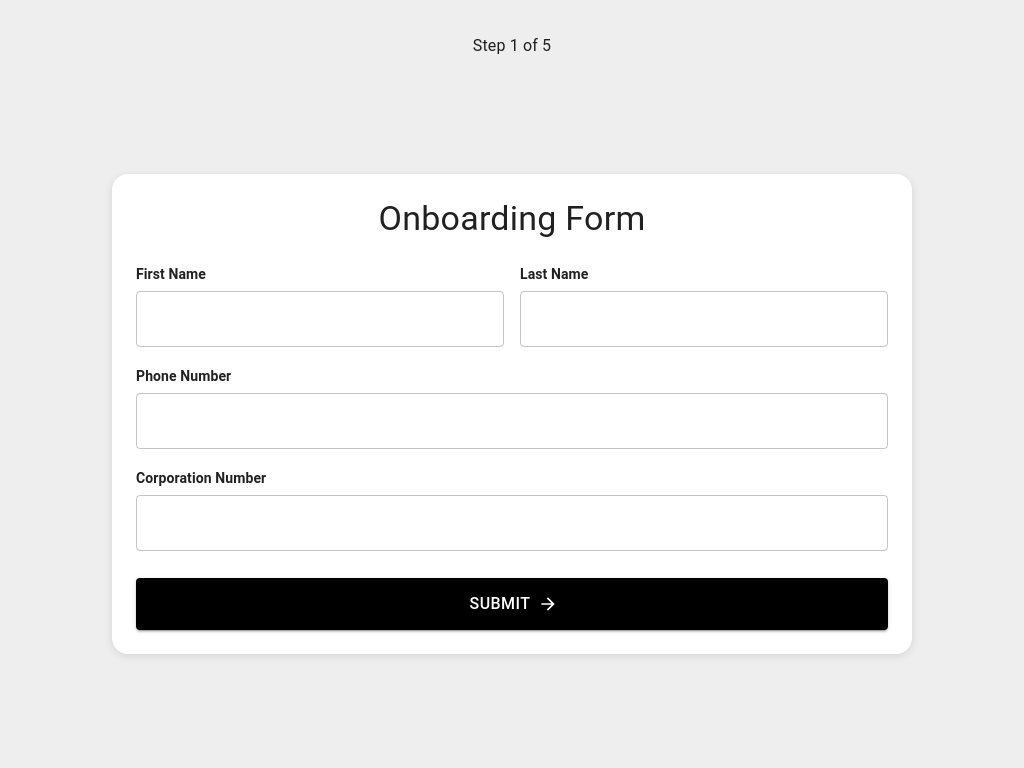
Test: OnboardingForm › displays error message on failed submission
This screenshot has width=1024, height=768.
In the element named "firstName": {"x": 320, "y": 319} [136, 291, 504, 347], type "Hello"
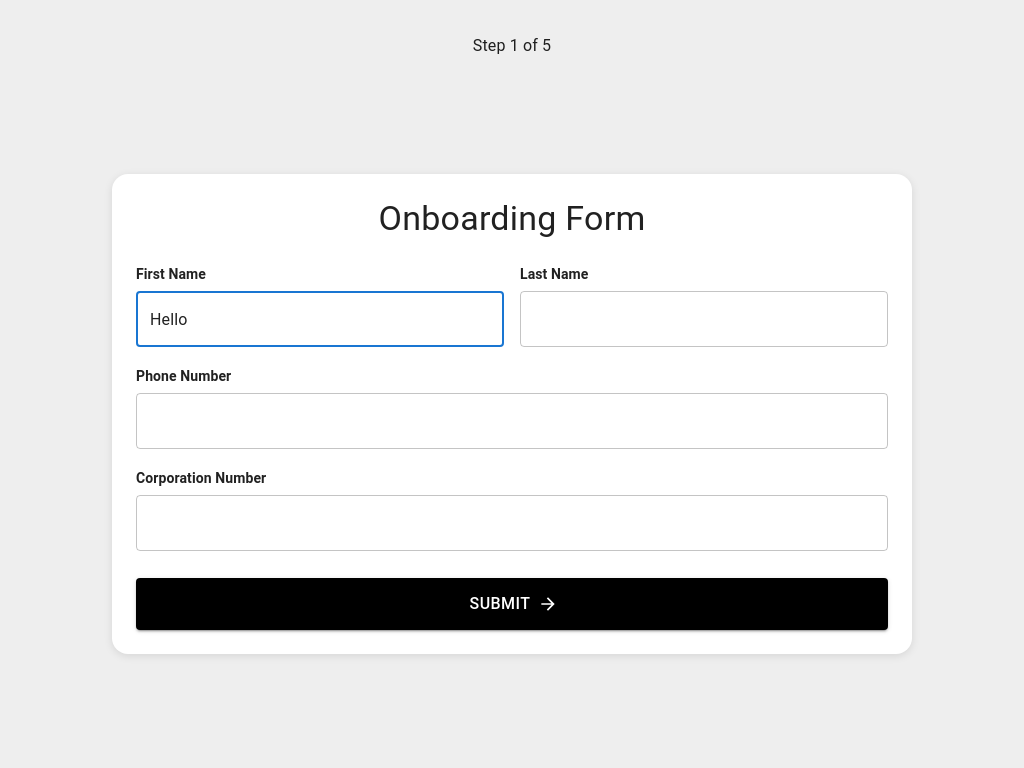
In the element named "lastName": {"x": 704, "y": 319} [520, 291, 888, 347], type "World"
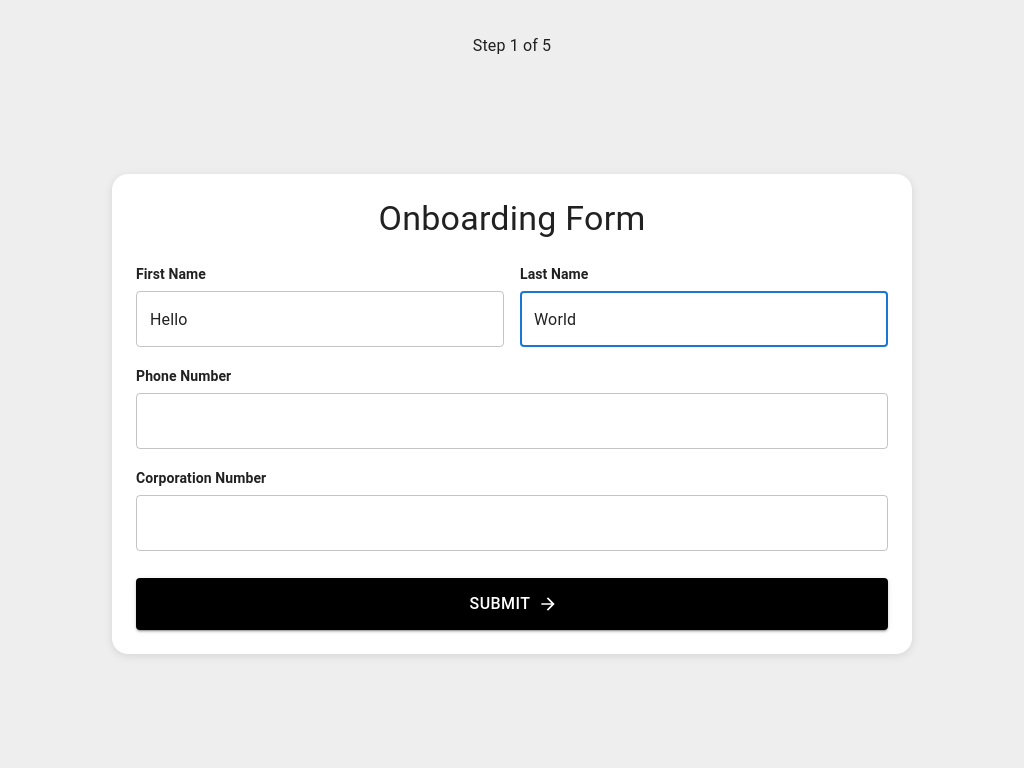
In the element named "phone": {"x": 512, "y": 421} [136, 393, 888, 449], type "+12345678901"
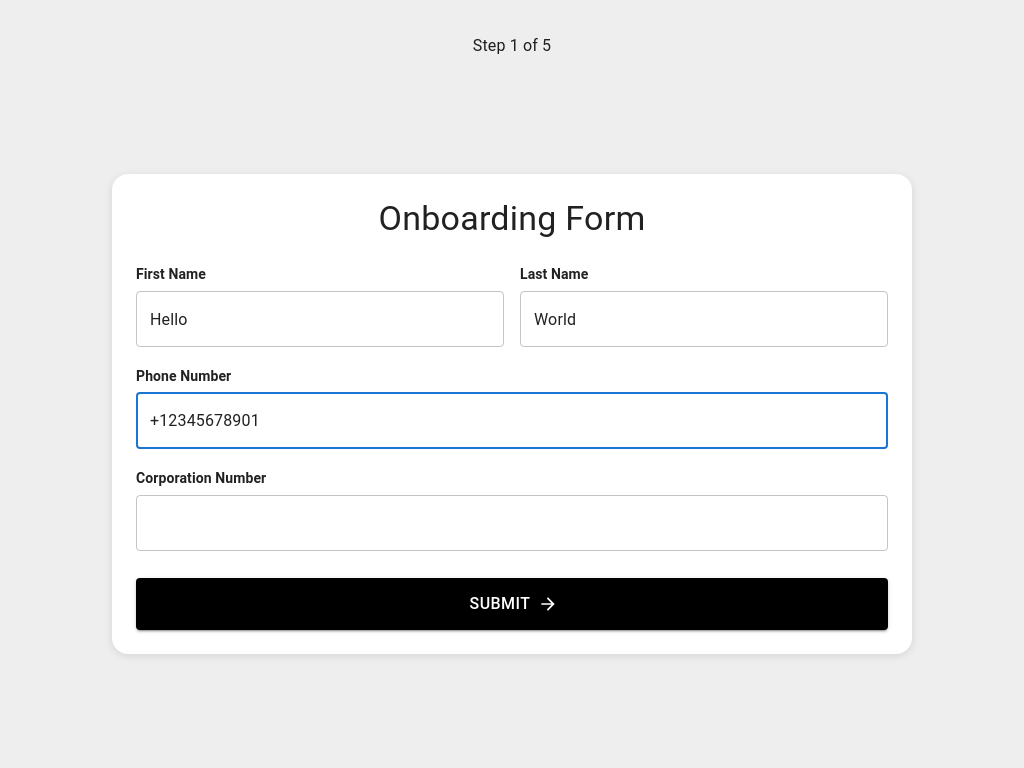
In the element named "corporationNumber": {"x": 512, "y": 523} [136, 495, 888, 551], type "123456789"
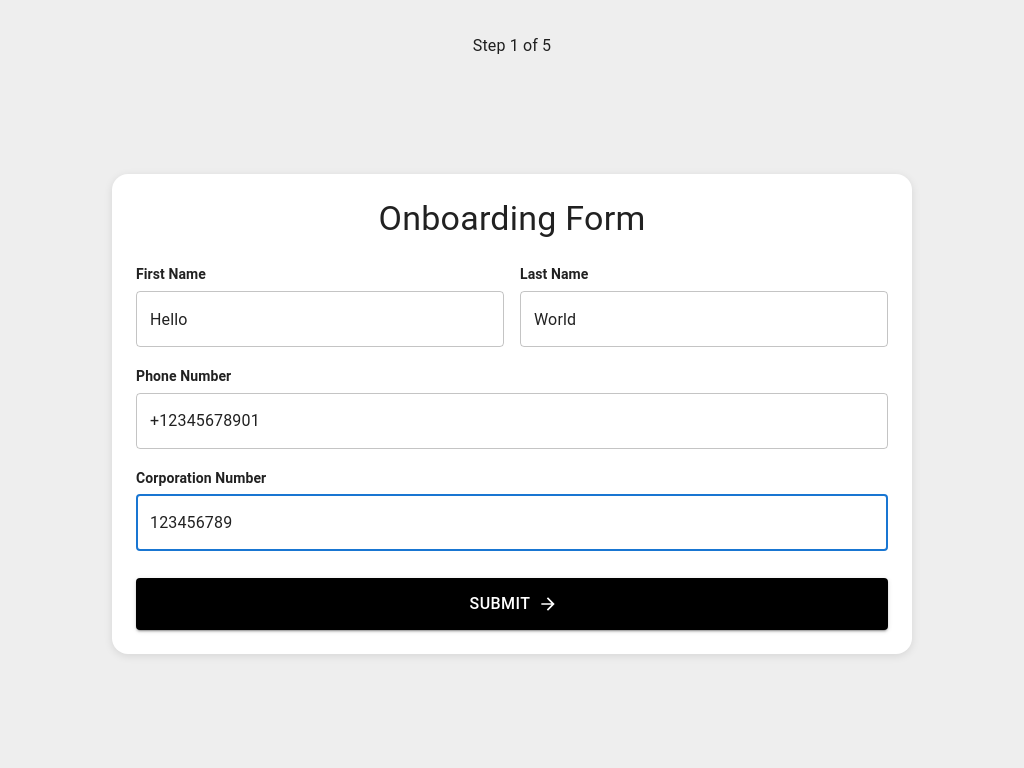
Click the button "Submit": {"x": 512, "y": 604} [136, 578, 888, 630]
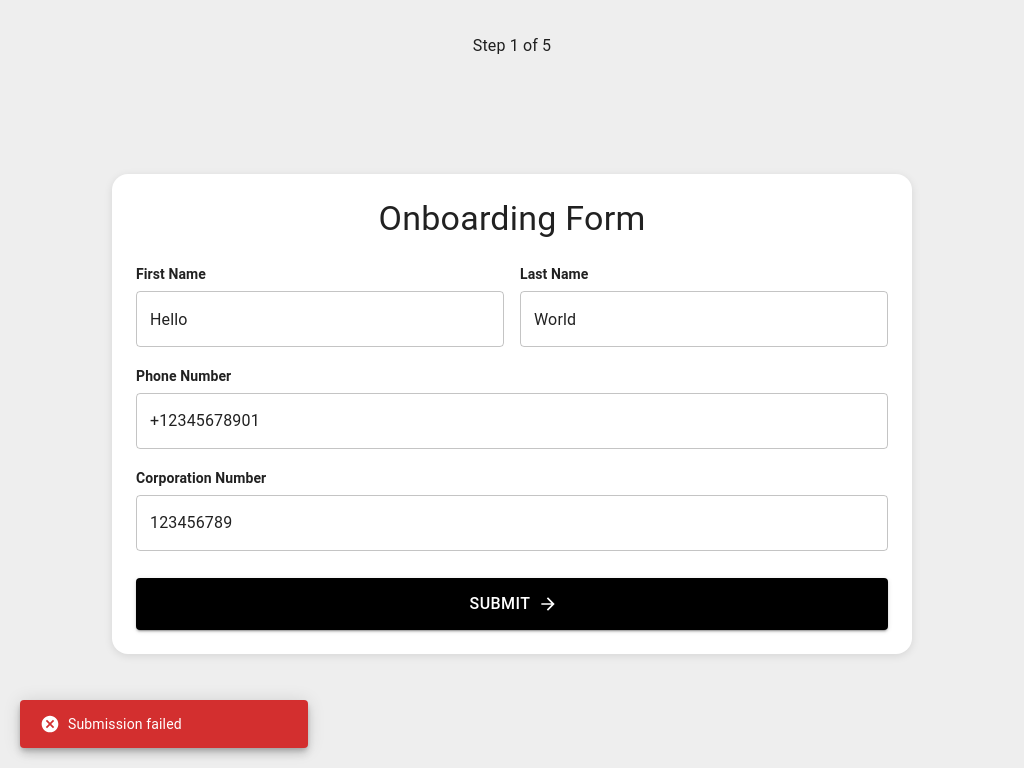
Check: the text "Submission failed" is shown, box [40, 714, 182, 734]
